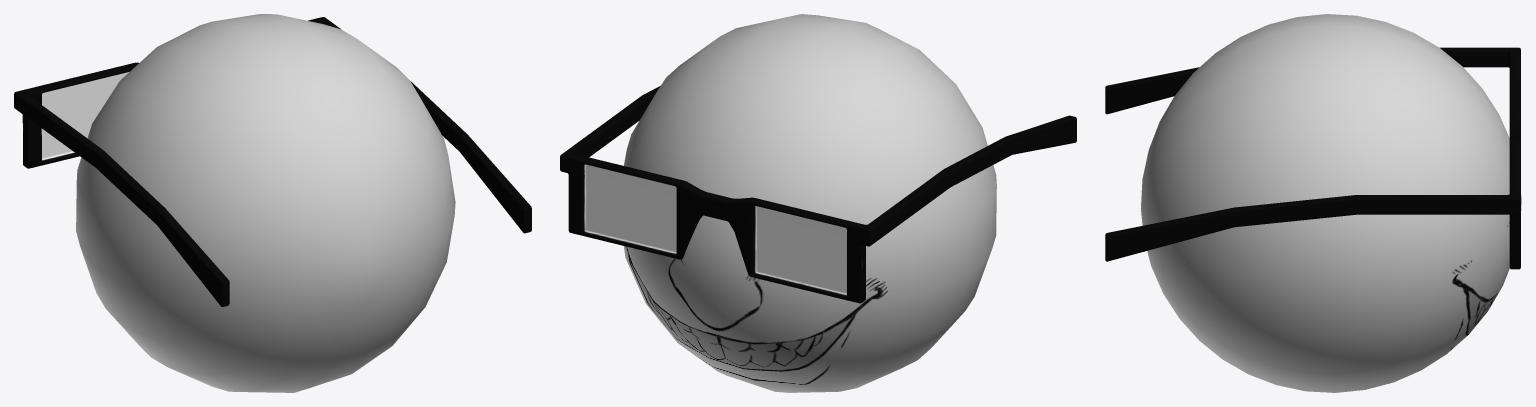
The model's file is AnimeBall.fbx.
The picture shows the model from 3 angles, left to right: view 1: azimuth 30°, elevation 25°; view 2: azimuth 150°, elevation 25°; view 3: azimuth 270°, elevation 25°; orthographic projection.
Visible parts, largest first — view 1: AnimeBall1; view 2: AnimeBall1; view 3: AnimeBall1.
Part boxes in pixels (x1,y1,x2,y2): AnimeBall1: (14, 14, 531, 392); AnimeBall1: (560, 14, 1076, 392); AnimeBall1: (1105, 14, 1521, 392).
Bounding box in the file's own units: 19.86 × 19.93 × 21.86.
